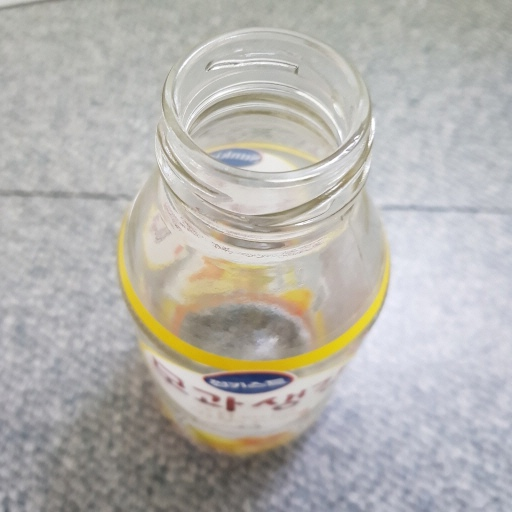Glass_4: (113, 24, 396, 466)
